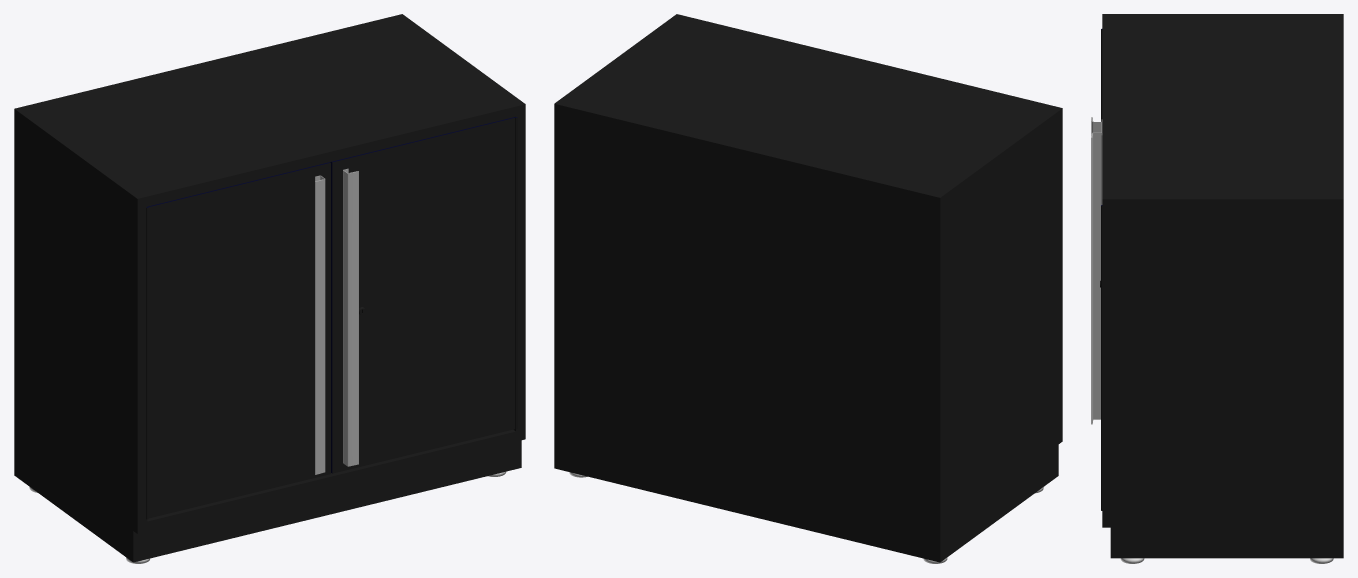
The model's file is door2Base.glb.
The picture shows the model from 3 angles, left to right: view 1: azimuth 30°, elevation 25°; view 2: azimuth 150°, elevation 25°; view 3: azimuth 270°, elevation 25°; orthographic projection. The views are drawn at different scales.
Parts seen in each view (by area): view 1: shellFp, doors, handlesFp, hingeFp; view 2: shellFp; view 3: shellFp, handlesFp, hingeFp.
Boxes of the visible parts, box(x1,y1,x2,y2) form: shellFp: box(14, 14, 525, 562); doors: box(146, 117, 517, 518); handlesFp: box(315, 168, 358, 474); hingeFp: box(146, 118, 517, 519); shellFp: box(554, 14, 1062, 562); shellFp: box(1102, 14, 1343, 558); handlesFp: box(1091, 117, 1102, 424); hingeFp: box(1101, 29, 1102, 510).
Bounding box in the file's own units: 1.02 × 0.9382 × 0.5842.
4 materials, 1 textured.
